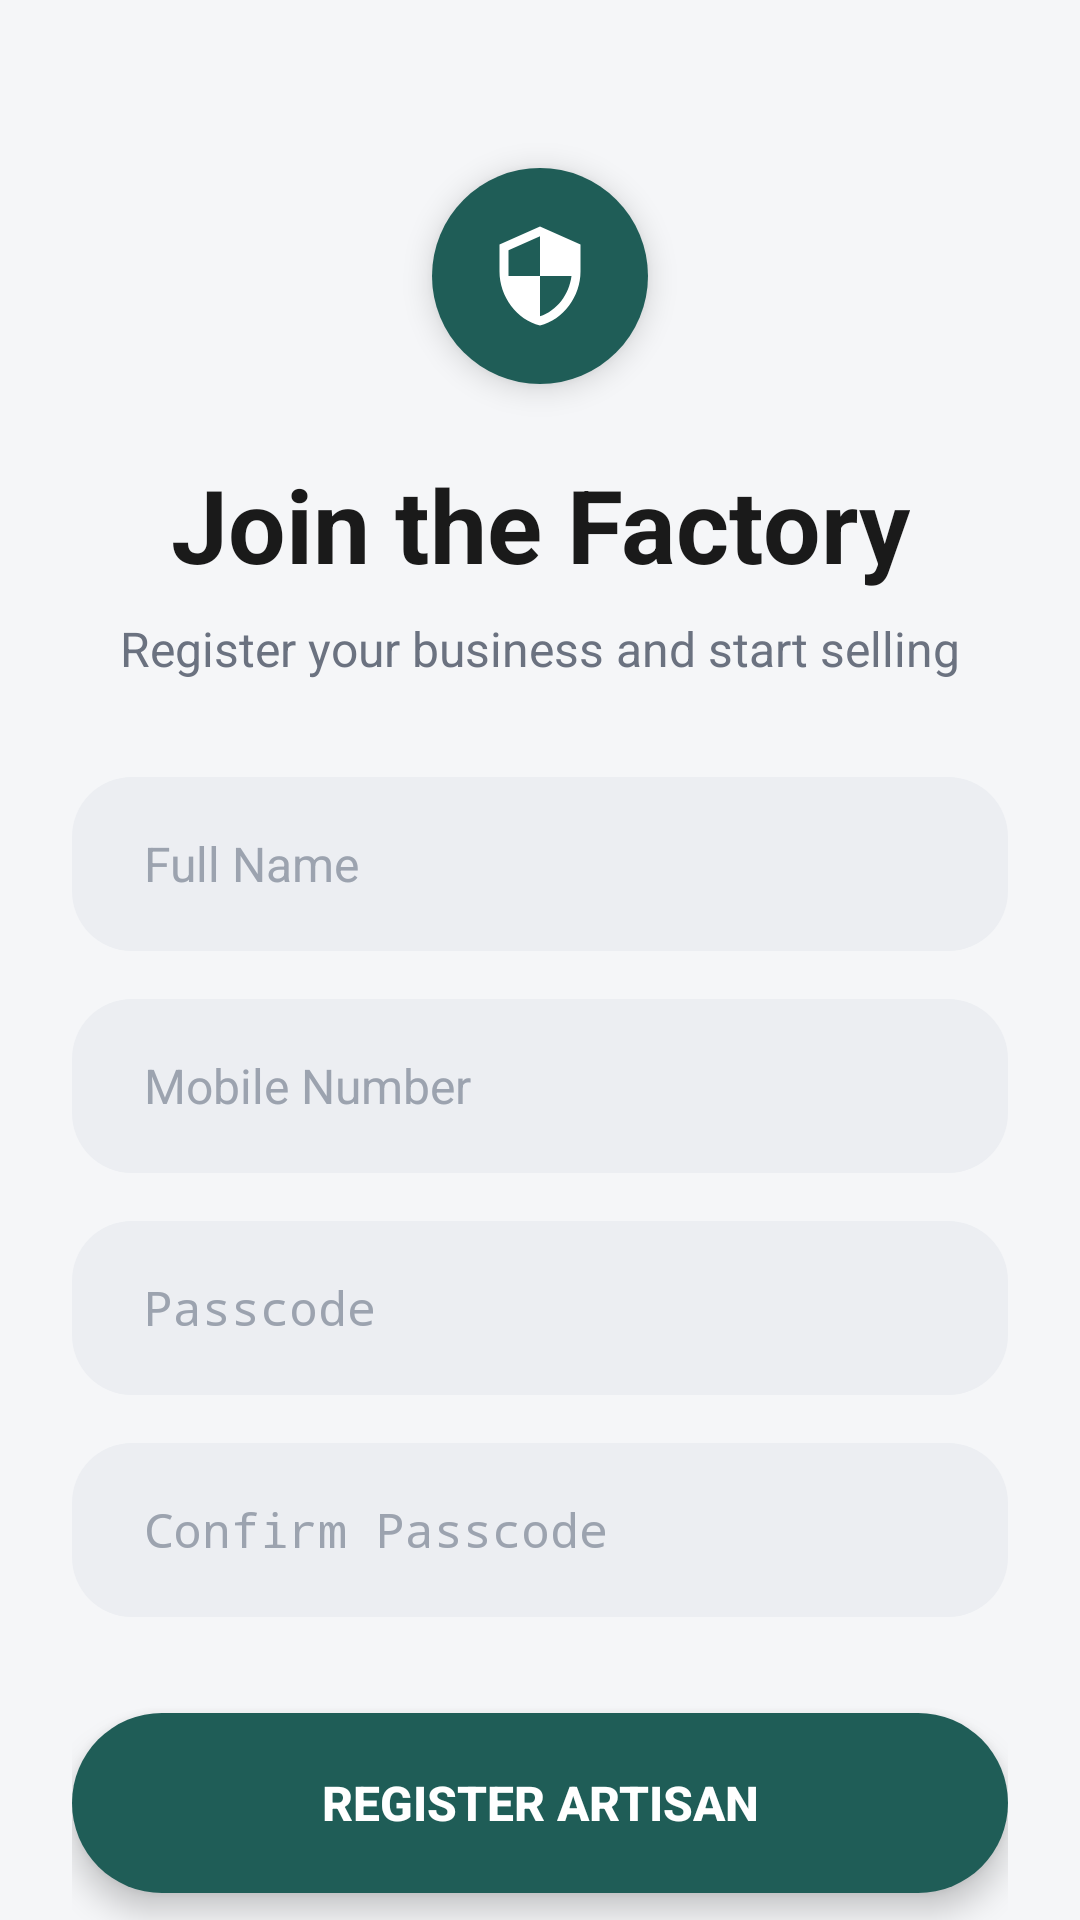

Screen size 1080px×1920px. Icon name, then its center in pixels as (x,y):
App Icon: (540,276)
